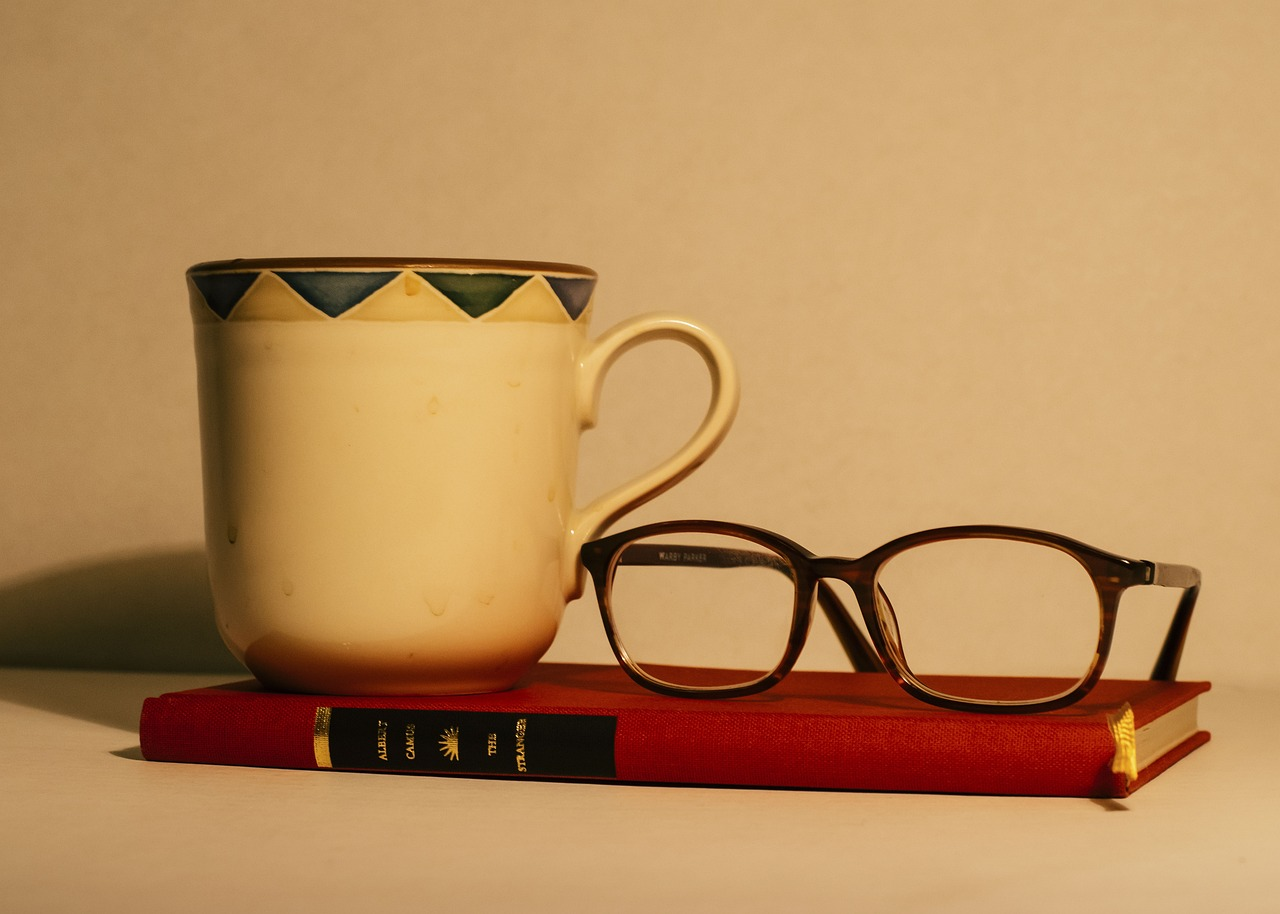mug: (140, 232, 747, 713)
